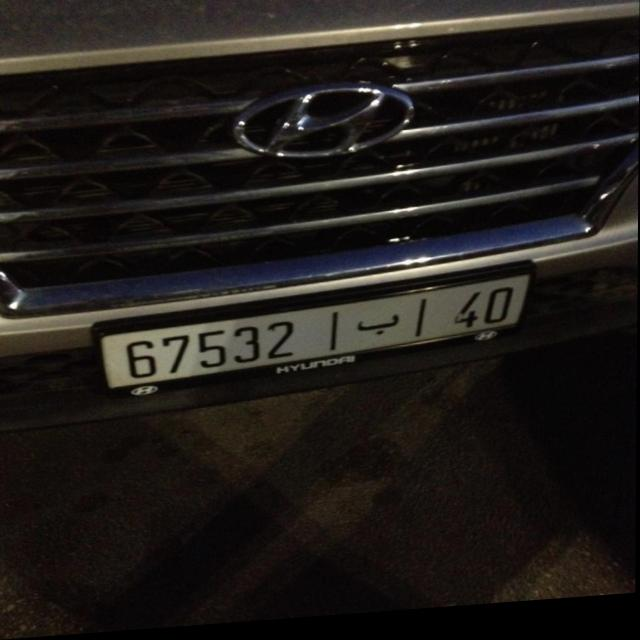License-Plate: (103, 282, 530, 392)
